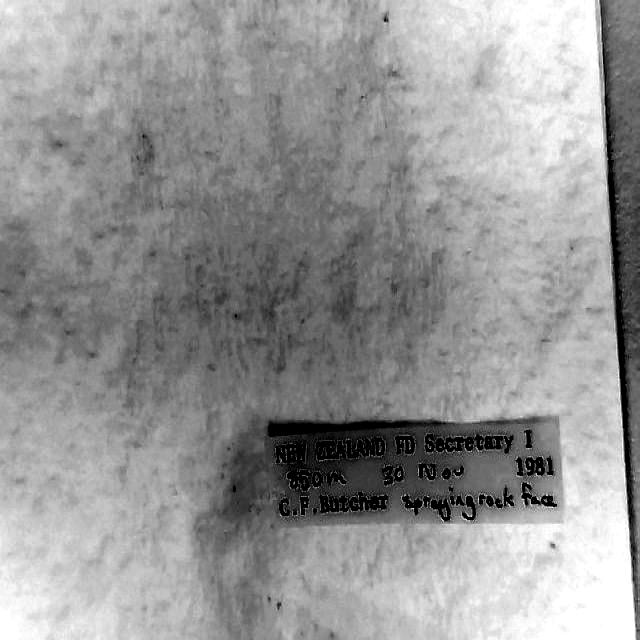mixed_label: (269, 417, 562, 522)
